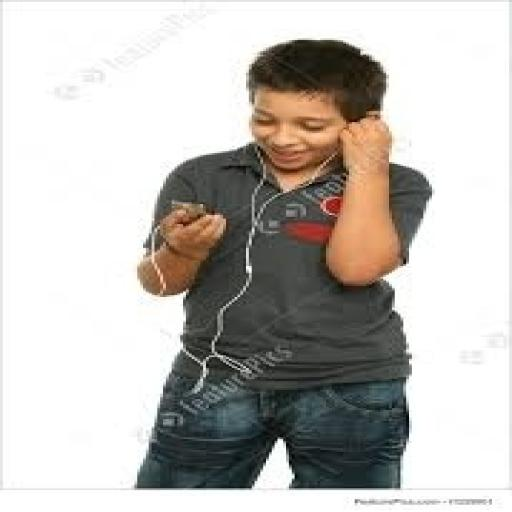listening_to_music: (132, 37, 438, 490)
